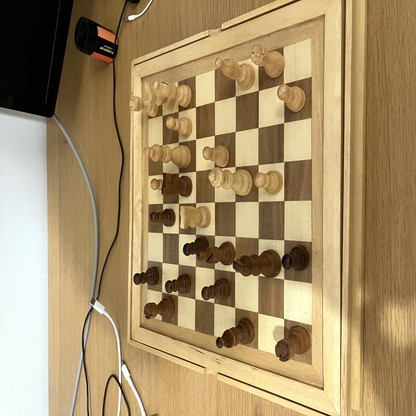bishop_black: (216, 318, 254, 348), (197, 242, 235, 264)
bishop_white: (215, 58, 255, 89), (153, 81, 191, 106)
king_black: (233, 250, 282, 277)
king_white: (142, 145, 192, 167)
knight_black: (162, 174, 193, 197)
knight_white: (143, 80, 175, 108), (181, 205, 212, 229)
pawn_black: (283, 245, 310, 270), (201, 280, 231, 300), (166, 274, 192, 293), (183, 237, 210, 255), (133, 266, 158, 285), (149, 210, 175, 225)
pawn_white: (277, 85, 306, 112), (255, 171, 283, 194), (203, 145, 229, 169), (166, 117, 192, 137)
queen_white: (209, 169, 253, 195)
rock_black: (275, 325, 311, 362), (143, 295, 173, 319)
rock_white: (252, 43, 286, 77), (130, 97, 158, 117)
